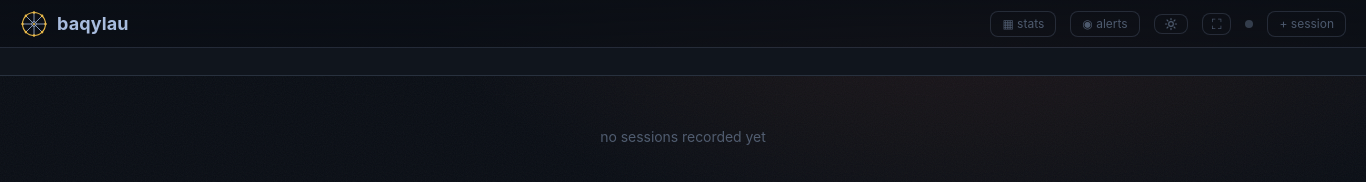
Test: application shell › navigates to stats and updates the view
The image size is (1366, 182).
Step 1. Click the button "▦ stats" → (1023, 24), box [990,11,1056,37]
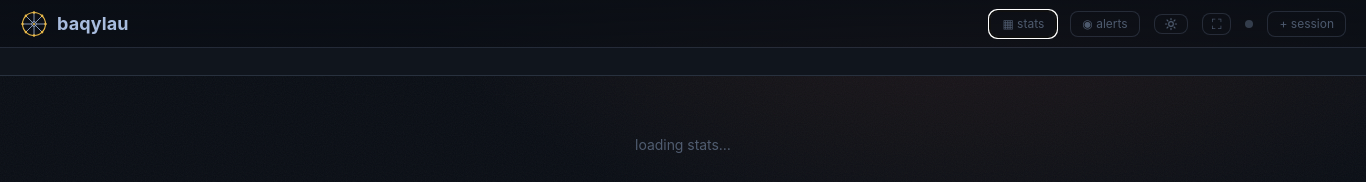
Expected: the text "loading stats…" is shown, [635,136,731,153]
